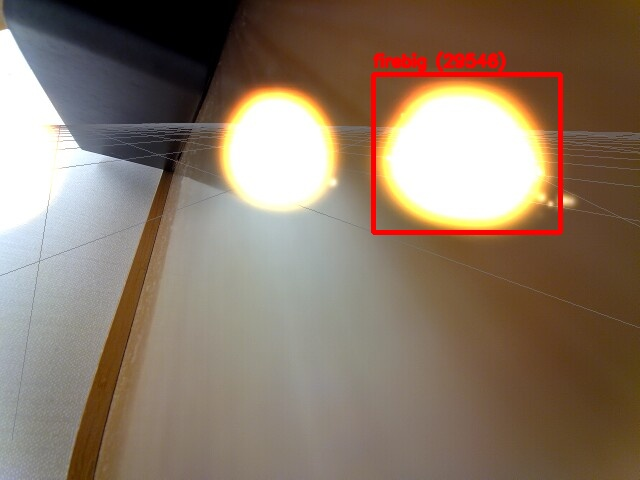firebig: (373, 74, 560, 232)
